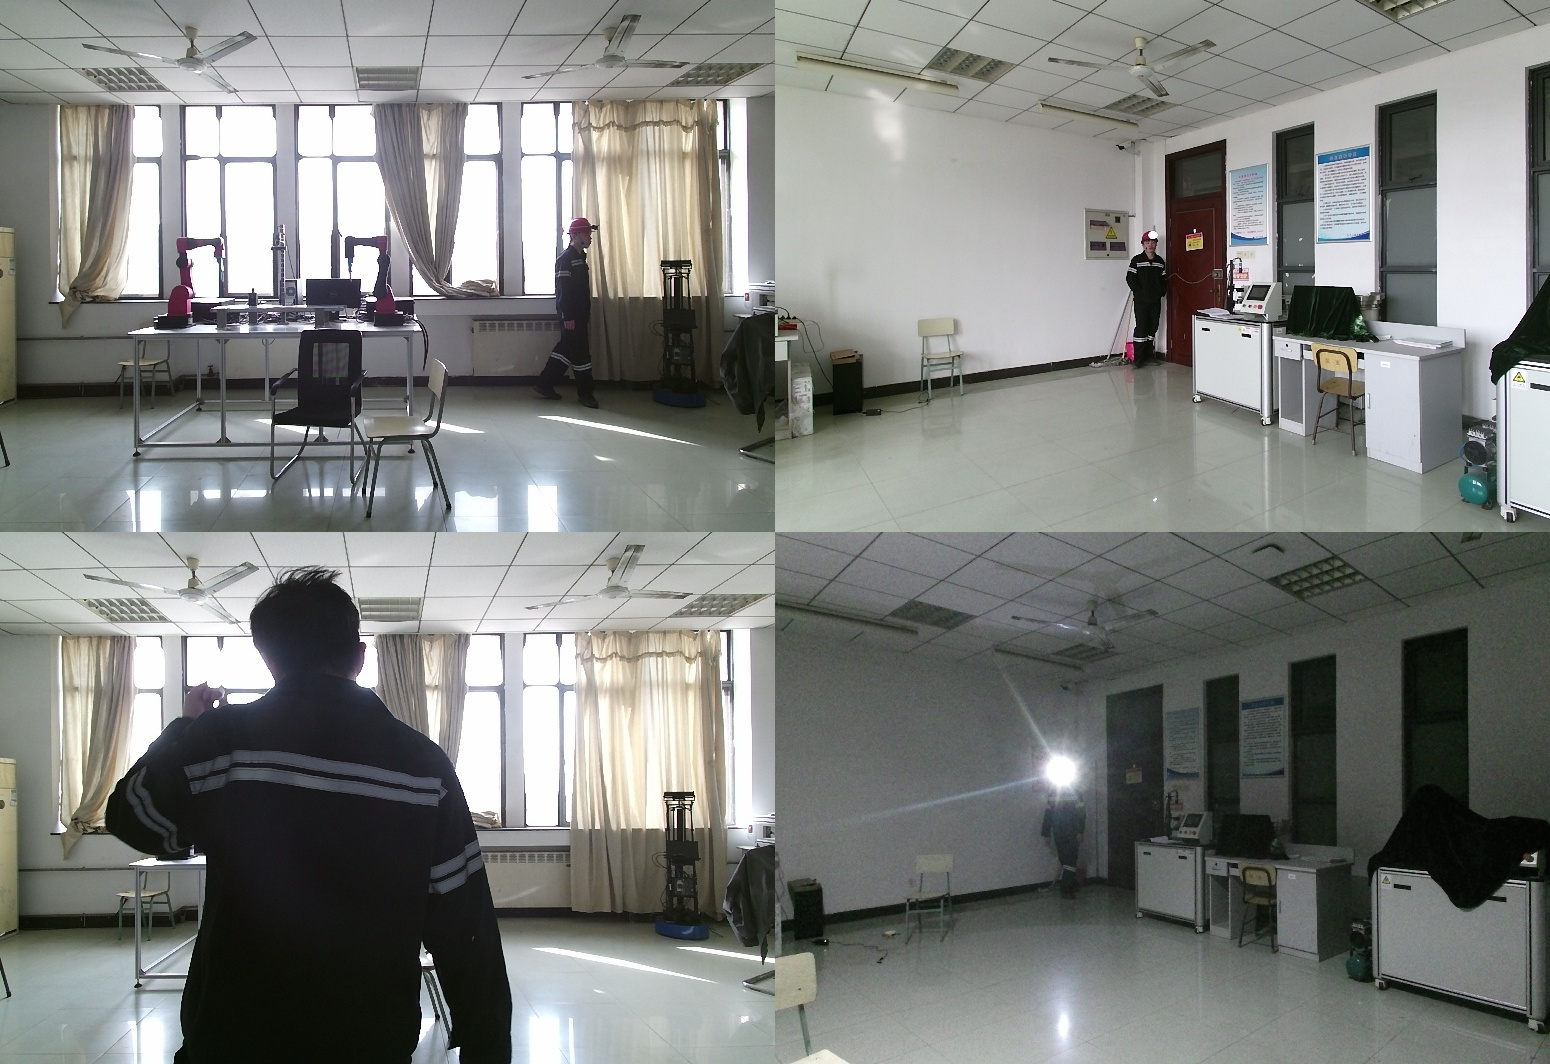person: (112, 573, 511, 1064), (538, 217, 604, 411), (1041, 768, 1089, 898), (1124, 232, 1167, 371)
